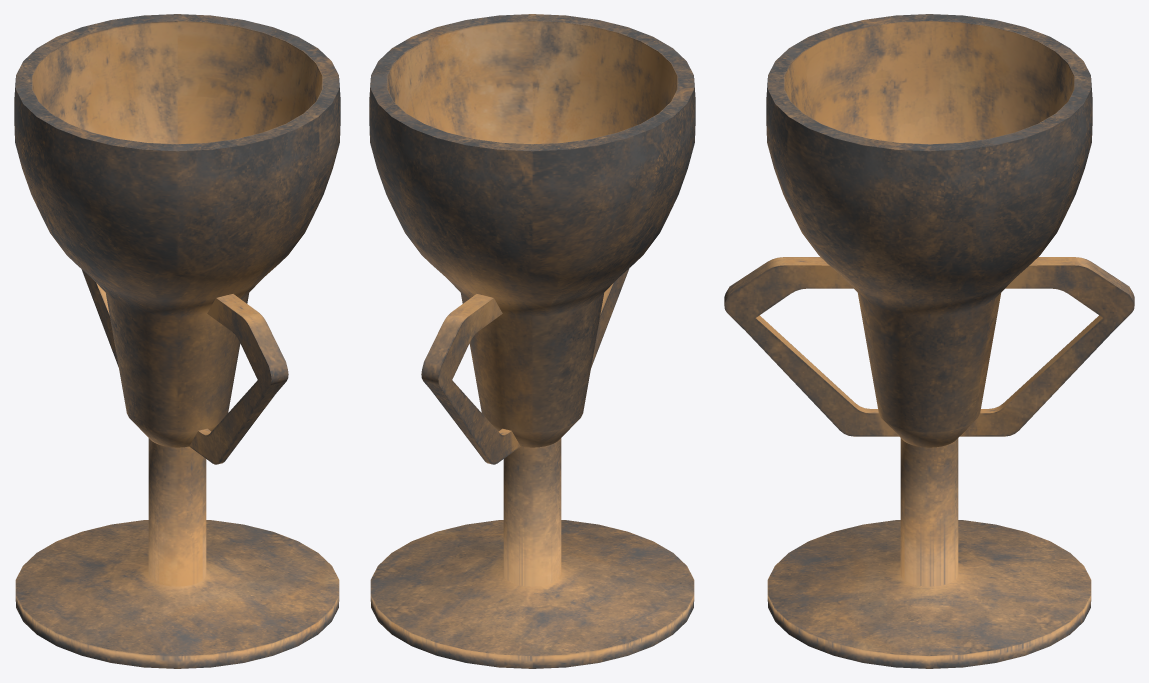
The model's file is Trophy.fbx.
The picture shows the model from 3 angles, left to right: view 1: azimuth 30°, elevation 25°; view 2: azimuth 150°, elevation 25°; view 3: azimuth 270°, elevation 25°; orthographic projection.
Visible parts, largest first — view 1: pCylinder1; view 2: pCylinder1; view 3: pCylinder1.
Boxes of the visible parts, bbox=[...] form: pCylinder1: bbox=[14, 14, 340, 668]; pCylinder1: bbox=[369, 14, 695, 668]; pCylinder1: bbox=[724, 14, 1134, 668].
Size of the model in its own units: 2.02 by 3.52 by 2.53.
Materials: 1 (1 with a texture image).
